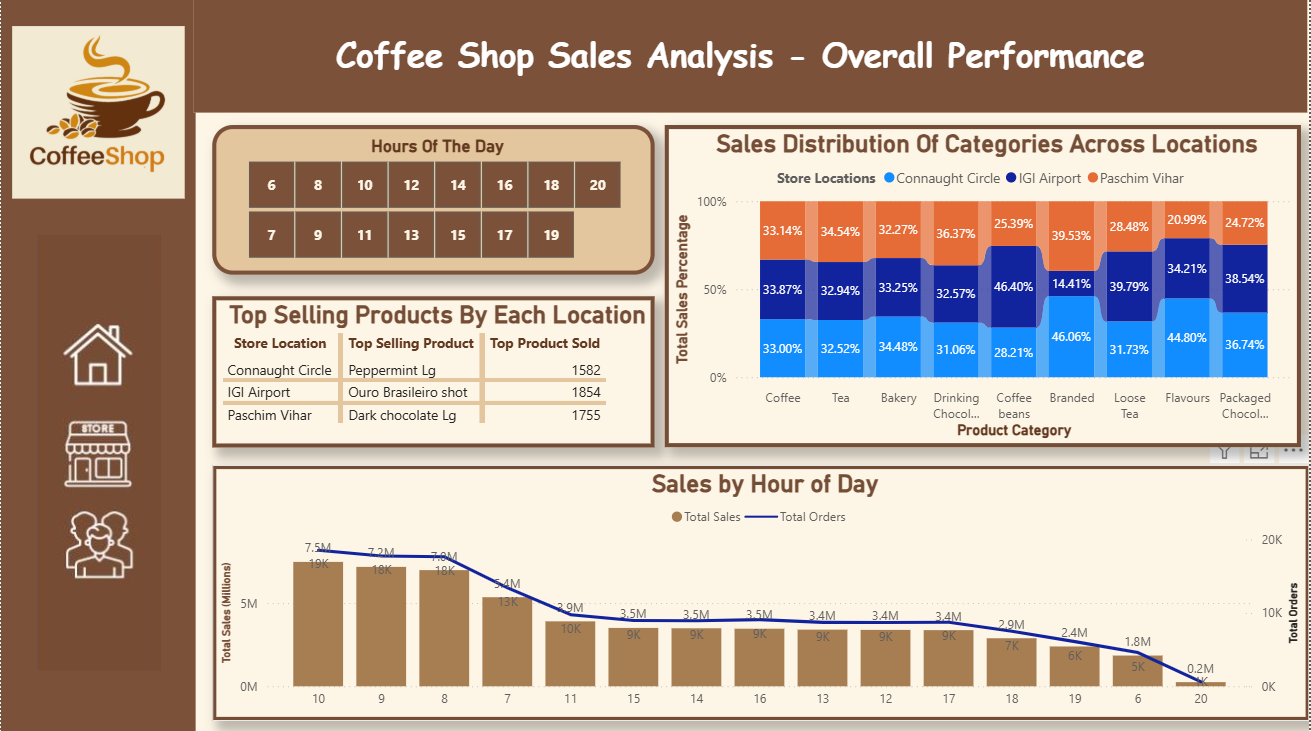

This screenshot's page, from the dashboard's own definition file:
{"tool":"powerbi","page":{"name":"Overall Performance","canvas":[1280,720],"ordinal":3},"visuals":[{"type":"lineStackedColumnComboChart","title":"Sales by Hour of Day","fields":{"Category":["Orders.Hours_ofThe_Day"],"Y":["Measurments.Total Sales"],"Y2":["Measurments.Total Orders"]},"box":[206.7,459.8,1073.6,250.7],"z":0},{"type":"tableEx","title":"Top Selling Products By Each Location","fields":{"Values":["Orders.store_location","Measurments.Top Selling Product","Measurments.Top Product Quantity"]},"box":[206.7,294.7,432.9,148],"z":1000},{"type":"slicer","title":"Hours Of The Day","fields":{"Values":["Orders.Hours_ofThe_Day"]},"box":[206.7,127.2,432.9,146.7],"z":2000},{"type":"hundredPercentStackedColumnChart","title":"Sales Distribution Of Categories Across Locations","fields":{"Category":["Products.product_category"],"Y":["Measurments.Total Sales"],"Series":["Orders.store_location"]},"box":[649.3,127.2,622.4,315.5],"z":3000},{"type":"shape","box":[0,0,190.6,720.7],"z":4000},{"type":"shape","box":[188.3,0,1089.5,114.9],"z":5000},{"type":"image","box":[6.1,0,178.5,229.9],"z":6000},{"type":"image","box":[3.7,229.9,184.6,436.6],"z":7000},{"type":"textbox","box":[232.3,30.6,981.9,72.1],"z":8000}]}

Visuals, with their boxes in screenshot pixels (x1, y1, x2, y2), scaled from the page's 1280x720 canvas onto the 1311x731 screenshot:
"Sales by Hour of Day" lineStackedColumnComboChart: crop(212, 467, 1310, 721)
"Top Selling Products By Each Location" tableEx: crop(212, 299, 655, 449)
"Hours Of The Day" slicer: crop(212, 129, 655, 278)
"Sales Distribution Of Categories Across Locations" hundredPercentStackedColumnChart: crop(665, 129, 1302, 449)
shape: crop(0, 0, 195, 730)
shape: crop(193, 0, 1309, 117)
image: crop(6, 0, 189, 233)
image: crop(4, 233, 193, 677)
textbox: crop(238, 31, 1244, 104)
